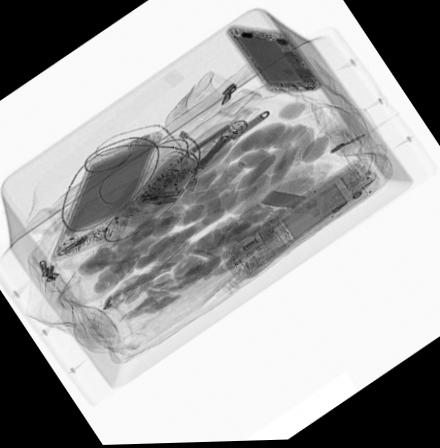Powerbank: (47, 129, 165, 264)
